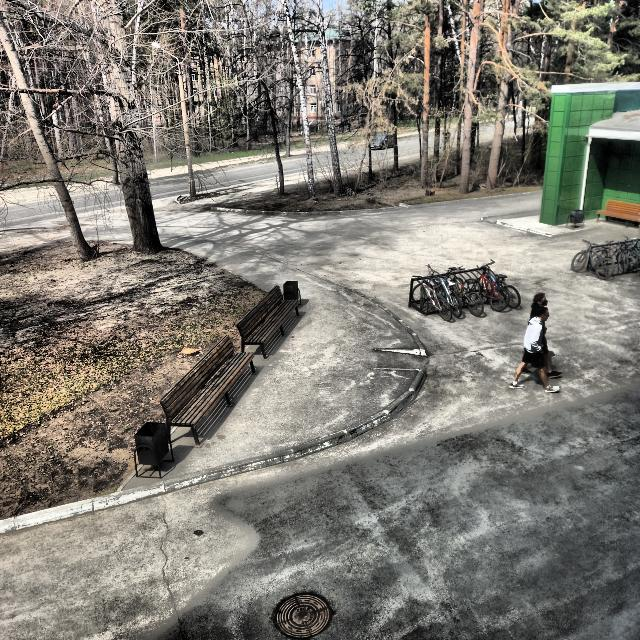Human: (512, 283, 565, 400)
